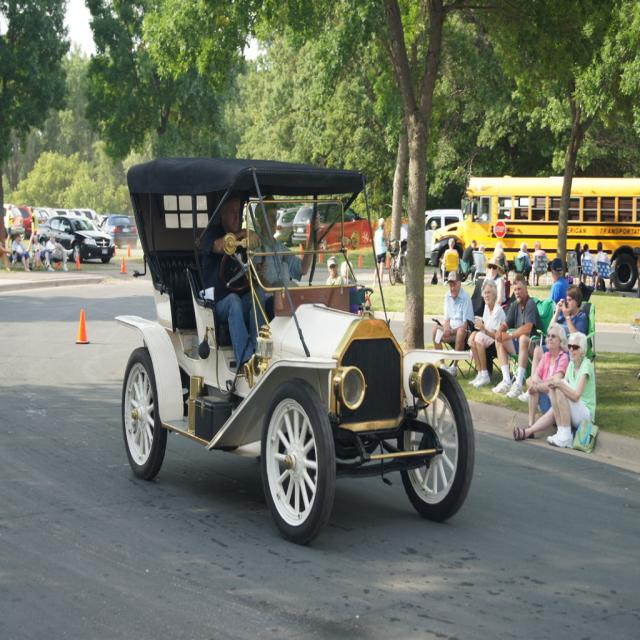car: (116, 152, 478, 543)
